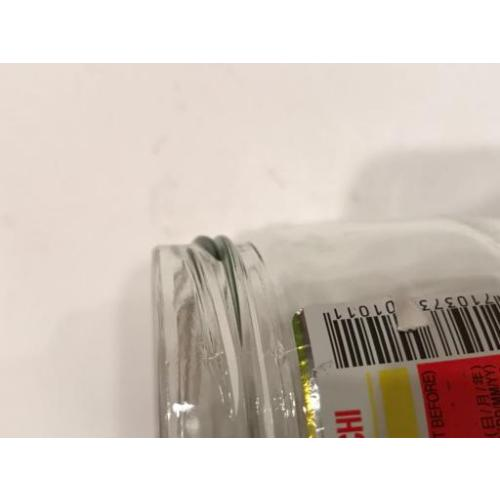glass: (152, 222, 499, 436)
